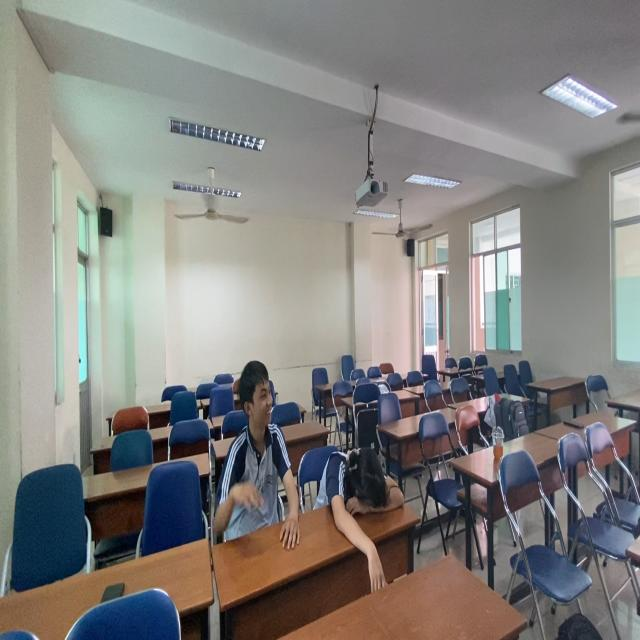sleep: (320, 442, 410, 536)
